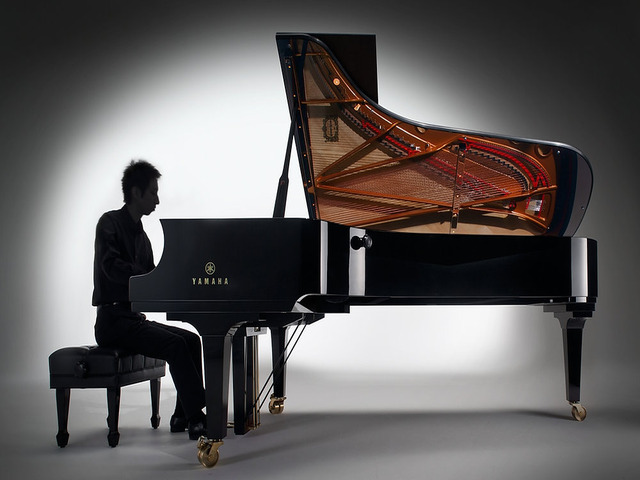Piano: (125, 23, 602, 472)
